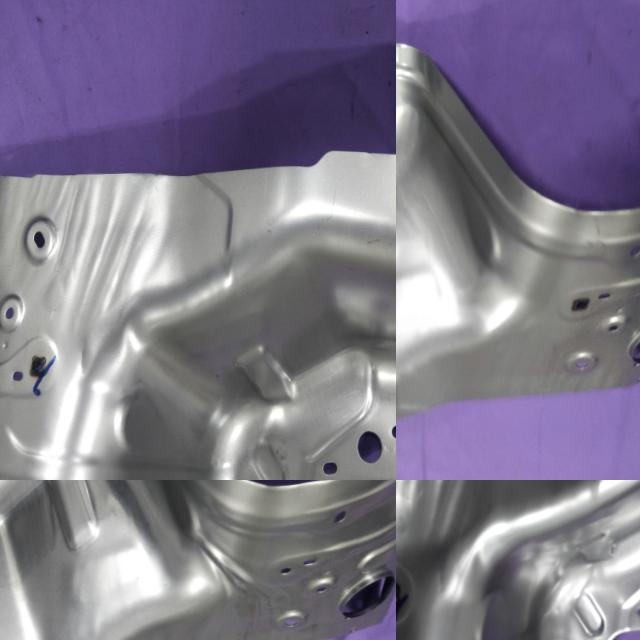Healthy: (0, 142, 396, 480), (396, 34, 640, 452), (396, 480, 640, 640)
